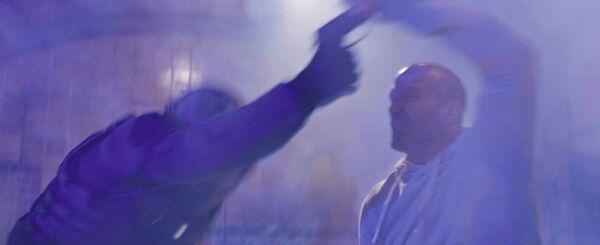Gun: (315, 0, 376, 57)
